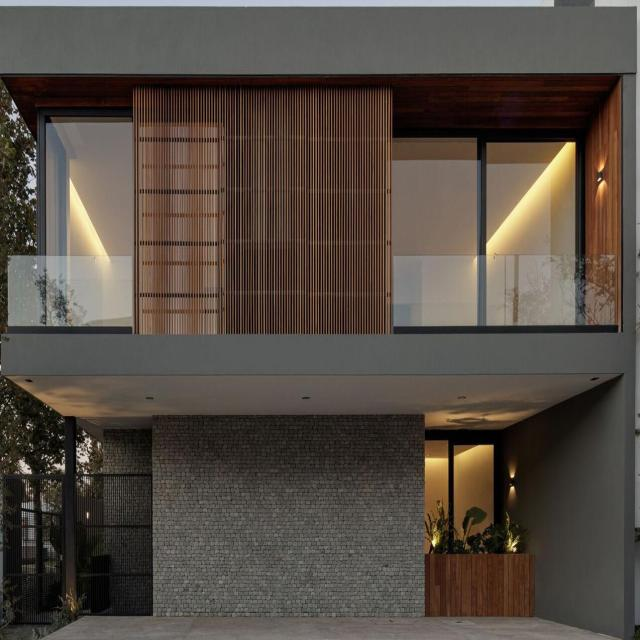door: (392, 257, 620, 328), (6, 250, 132, 330)
window: (392, 134, 580, 324), (40, 105, 132, 331)
